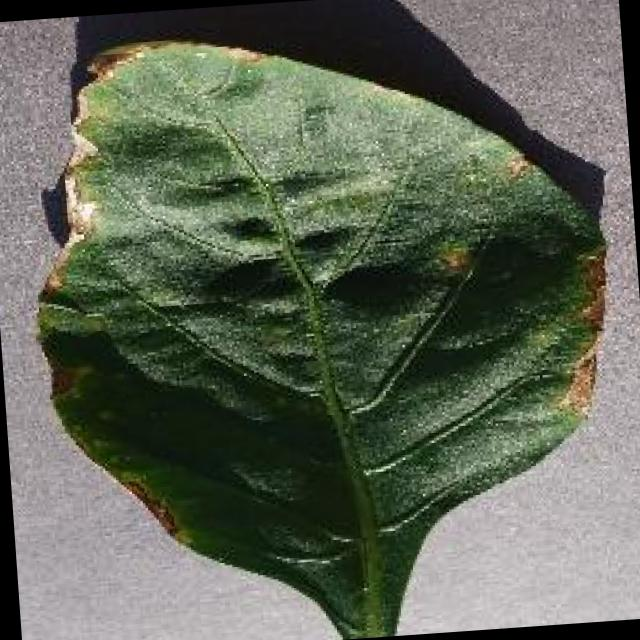Chilli_Bacterial_Spot: (12, 3, 633, 640), (543, 240, 620, 422), (77, 28, 265, 83), (115, 470, 180, 542), (292, 96, 341, 152), (42, 356, 95, 402), (430, 237, 474, 280), (225, 210, 277, 243), (64, 195, 99, 240), (501, 148, 533, 182)
